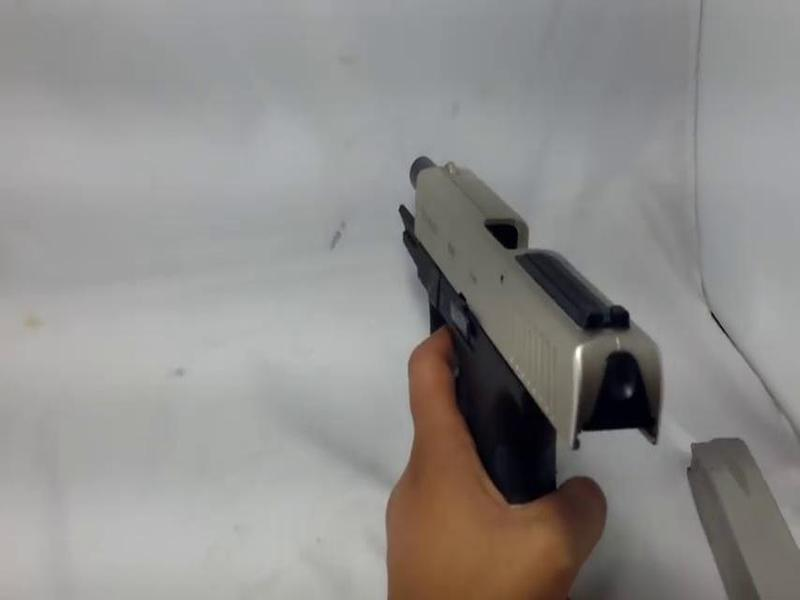Pistola: (396, 140, 661, 600)
